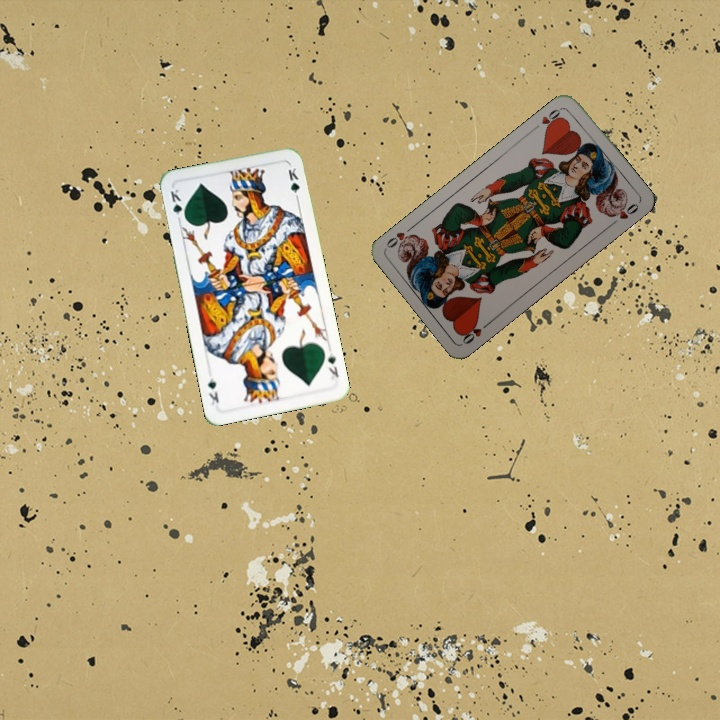GK: (166, 185, 188, 225), (323, 349, 341, 382)
HO: (457, 317, 494, 347), (530, 103, 565, 134)
